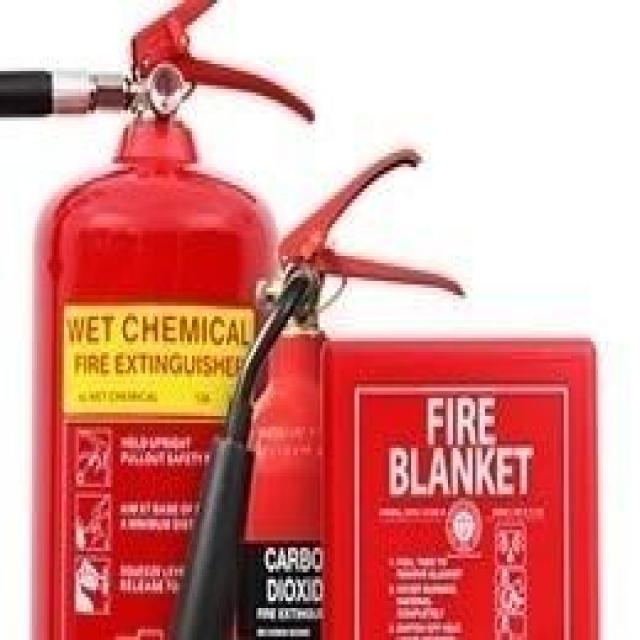fire_extinguisher: (0, 0, 320, 636), (155, 135, 470, 637)
